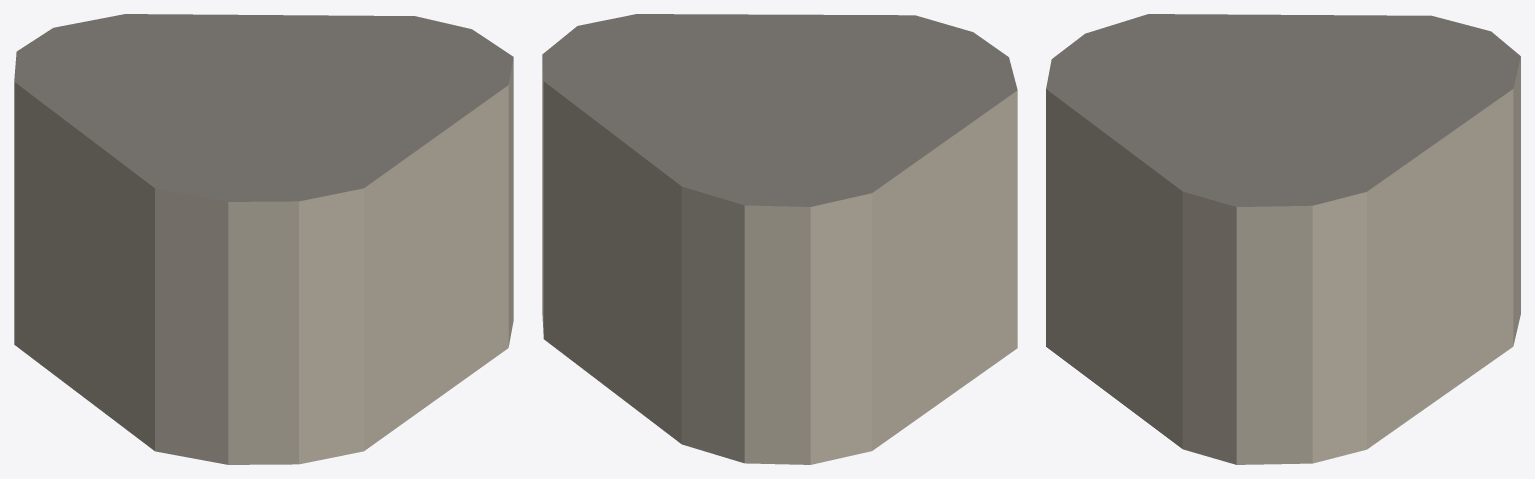
3 views of the same model, side by side, from view 1: azimuth 30°, elevation 25°; view 2: azimuth 150°, elevation 25°; view 3: azimuth 270°, elevation 25° (orthographic). The views are drawn at different scales.
Parts seen in each view (by area): view 1: HP-w299010057; view 2: HP-w299010057; view 3: HP-w299010057.
Part boxes in pixels (<box>): HP-w299010057: <box>14,14,513,464</box>; HP-w299010057: <box>542,14,1017,464</box>; HP-w299010057: <box>1046,14,1520,464</box>.
Bounding box in the file's own units: 28.92 × 18 × 30.05.
